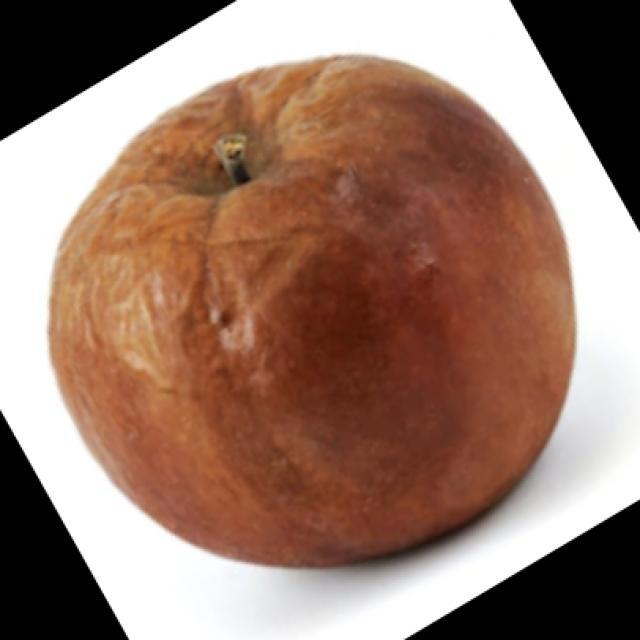Rotten: (64, 56, 564, 556)
